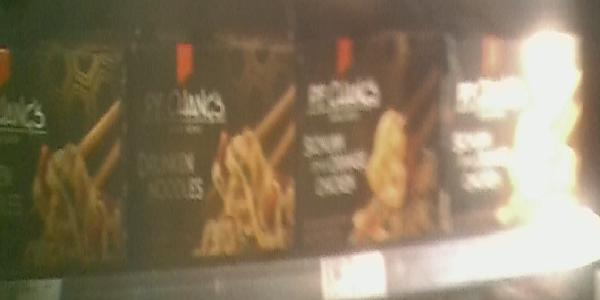pizza1: (129, 36, 301, 257), (298, 29, 443, 244), (447, 30, 586, 236), (1, 46, 131, 266)
